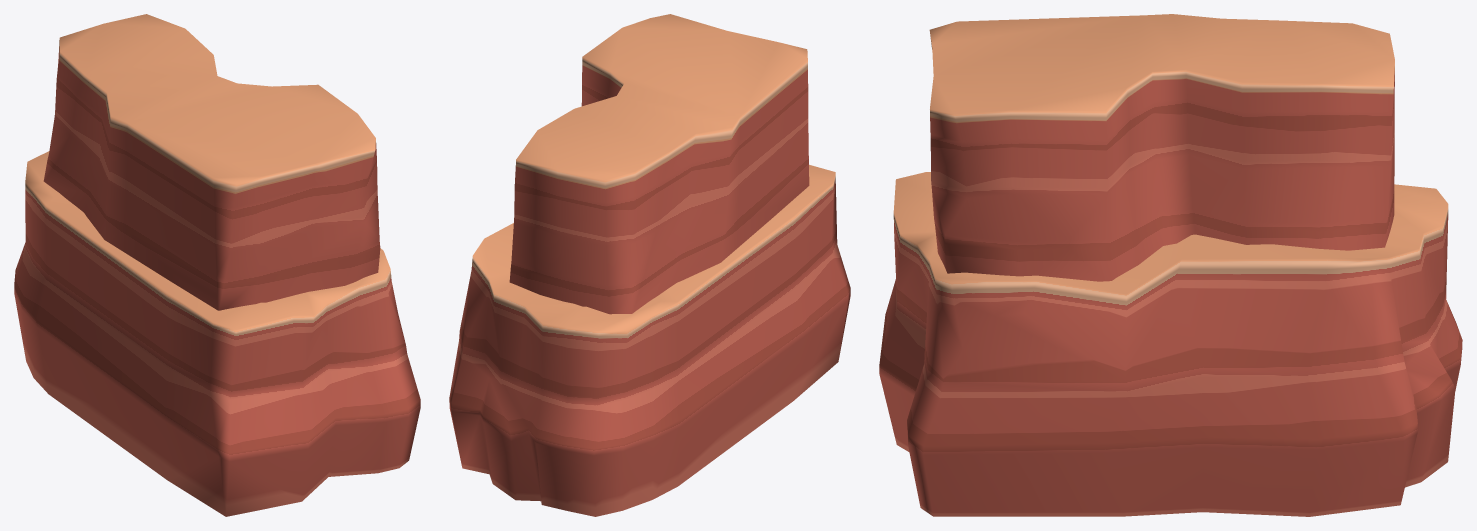
File: BO_Rock_2x3x4.fbx
The picture shows the model from 3 angles, left to right: view 1: azimuth 30°, elevation 25°; view 2: azimuth 150°, elevation 25°; view 3: azimuth 270°, elevation 25°; orthographic projection. The views are drawn at different scales.
Visible parts, largest first — view 1: Rock_2x3x4; view 2: Rock_2x3x4; view 3: Rock_2x3x4.
Boxes of the visible parts, bbox=[...] form: Rock_2x3x4: bbox=[14, 14, 420, 516]; Rock_2x3x4: bbox=[449, 14, 850, 516]; Rock_2x3x4: bbox=[879, 14, 1462, 516].
Size of the model in its own units: 215 by 309 by 410.
Materials: 1 (1 with a texture image).
